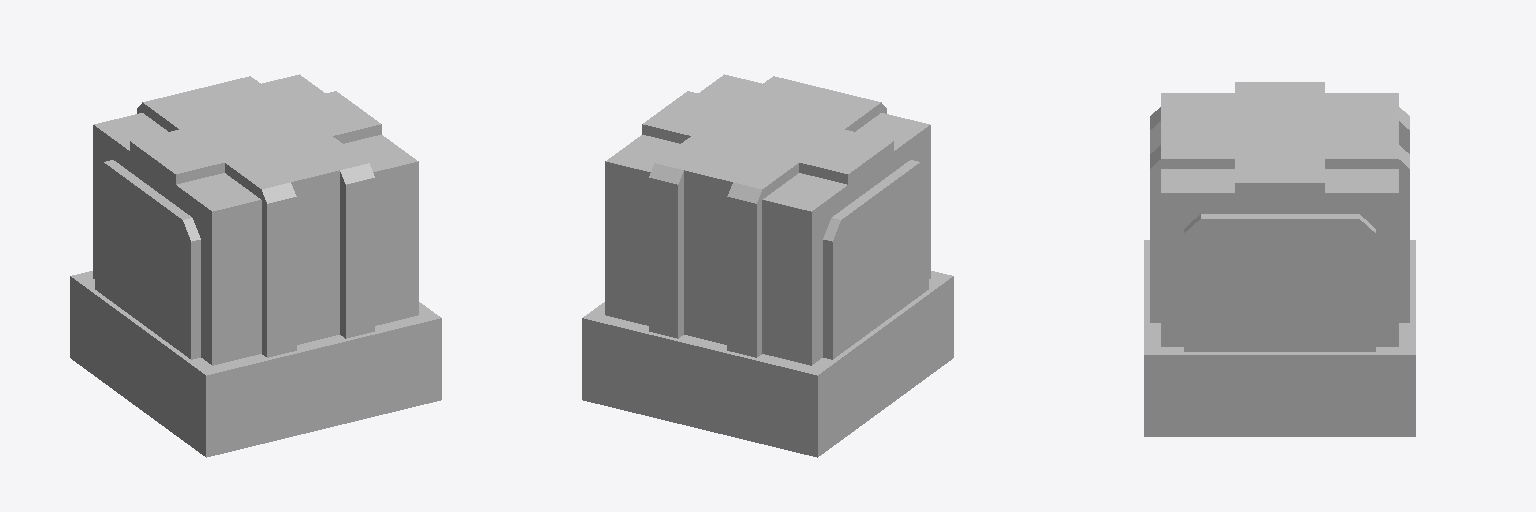
3 renders of one model, left to right at view 1: azimuth 30°, elevation 25°; view 2: azimuth 150°, elevation 25°; view 3: azimuth 270°, elevation 25°, orthographic.
Visible parts, largest first — view 1: cube_selection_selection, cube, cube_selection; view 2: cube_selection_selection, cube, cube_selection; view 3: cube_selection_selection, cube, cube_selection.
Part boxes in pixels (x1,y1,x2,y2): cube_selection_selection: (94, 74, 417, 359); cube: (70, 271, 441, 457); cube_selection: (93, 125, 418, 365); cube_selection_selection: (606, 74, 929, 359); cube: (582, 271, 953, 457); cube_selection: (605, 125, 930, 365); cube_selection_selection: (1150, 82, 1409, 351); cube: (1144, 240, 1415, 436); cube_selection: (1161, 193, 1398, 346).
Bounding box in the file's own units: 3 × 3 × 3.